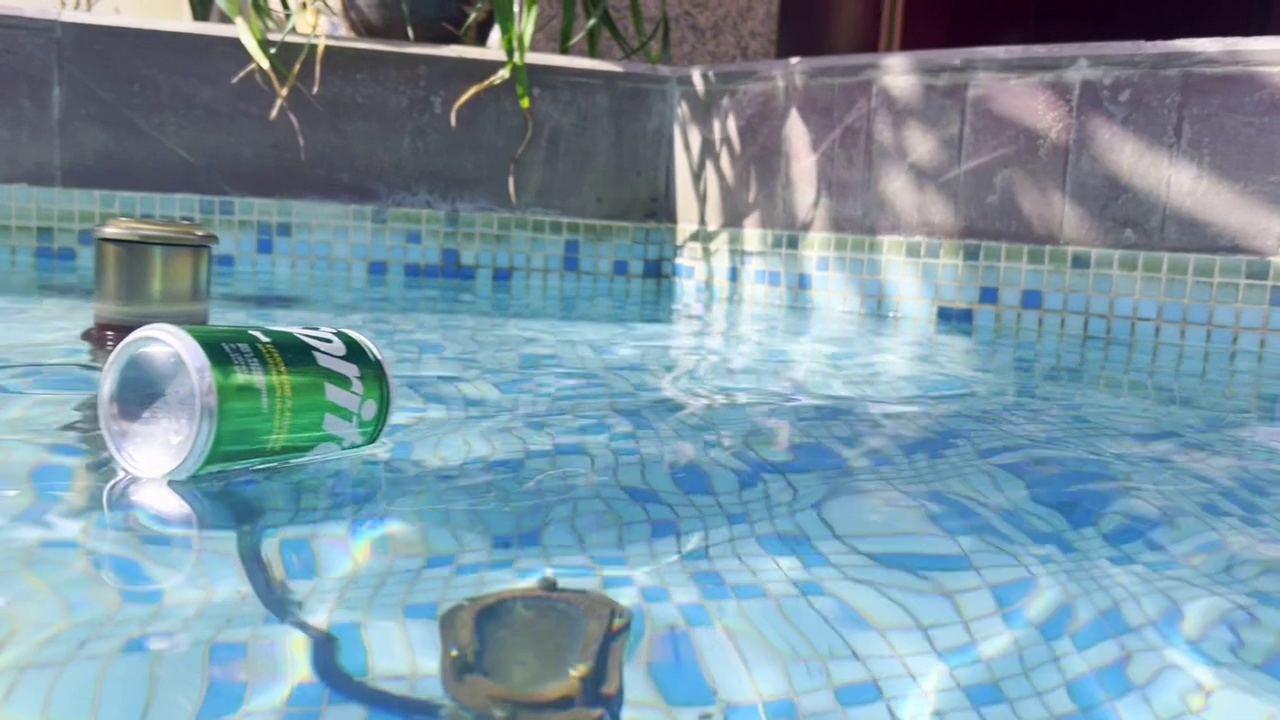debris: (88, 304, 400, 488)
